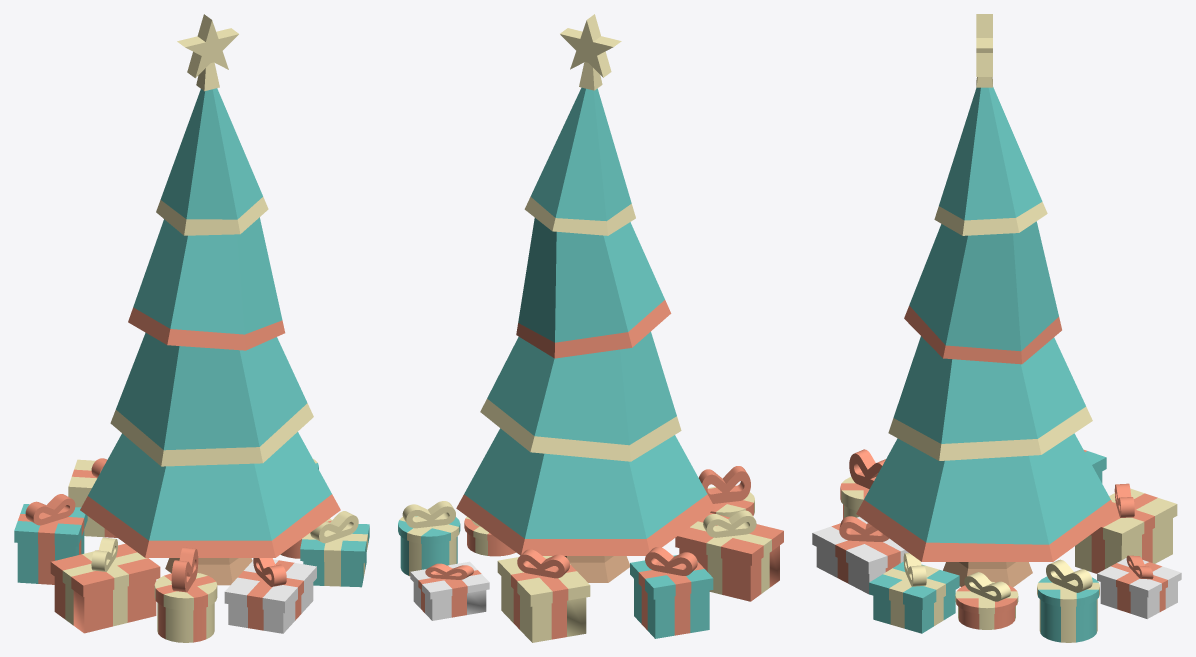
File: X-Tree.gltf
3 renders of one model, left to right at view 1: azimuth 30°, elevation 25°; view 2: azimuth 150°, elevation 25°; view 3: azimuth 270°, elevation 25°, orthographic.
Parts seen in each view (by area): view 1: treeDecorated, lid (×6), presentGreenLow2, star, present, presentGreenRound, presentLow, presentGreen; view 2: treeDecorated, lid (×5), presentGreenLow, present, presentGreenLow2, star, lid1, presentGreenLow4, presentRound, presentGreenRound2; view 3: treeDecorated, lid (×5), presentGreenLow, lid1, presentRound, presentGreen, lid2, presentGreenLow4, presentLow, star, presentGreenRound2.
Boxes of the visible parts, left/top/right/bottom form: treeDecorated: left=80, top=88, right=340, bottom=585; lid (×6): left=14, top=458, right=369, bottom=613; presentGreenLow2: left=54, top=577, right=156, bottom=633; star: left=177, top=14, right=238, bottom=91; present: left=17, top=530, right=84, bottom=584; presentGreenRound: left=157, top=603, right=214, bottom=642; presentLow: left=228, top=582, right=313, bottom=633; presentGreen: left=303, top=554, right=366, bottom=587; treeDecorated: left=456, top=87, right=715, bottom=582; lid (×5): left=398, top=466, right=783, bottom=606; presentGreenLow: left=501, top=576, right=586, bottom=642; present: left=634, top=579, right=709, bottom=638; presentGreenLow2: left=679, top=545, right=779, bottom=601; star: left=560, top=14, right=621, bottom=90; lid1: left=410, top=561, right=489, bottom=599; presentGreenLow4: left=413, top=582, right=486, bottom=620; presentRound: left=400, top=536, right=457, bottom=576; presentGreenRound2: left=467, top=533, right=515, bottom=556; treeDecorated: left=856, top=87, right=1118, bottom=587; lid (×5): left=812, top=449, right=1177, bottom=609; presentGreenLow: left=1075, top=518, right=1172, bottom=573; lid1: left=1097, top=555, right=1181, bottom=597; presentRound: left=1039, top=599, right=1097, bottom=642; presentGreen: left=873, top=590, right=955, bottom=633; lid2: left=955, top=572, right=1018, bottom=614; presentGreenLow4: left=1100, top=582, right=1177, bottom=618; presentLow: left=816, top=547, right=899, bottom=594; star: left=976, top=14, right=992, bottom=87; presentGreenRound2: left=958, top=606, right=1015, bottom=629.
Bounding box in the file's own units: 1.02 × 1.76 × 1.06.
